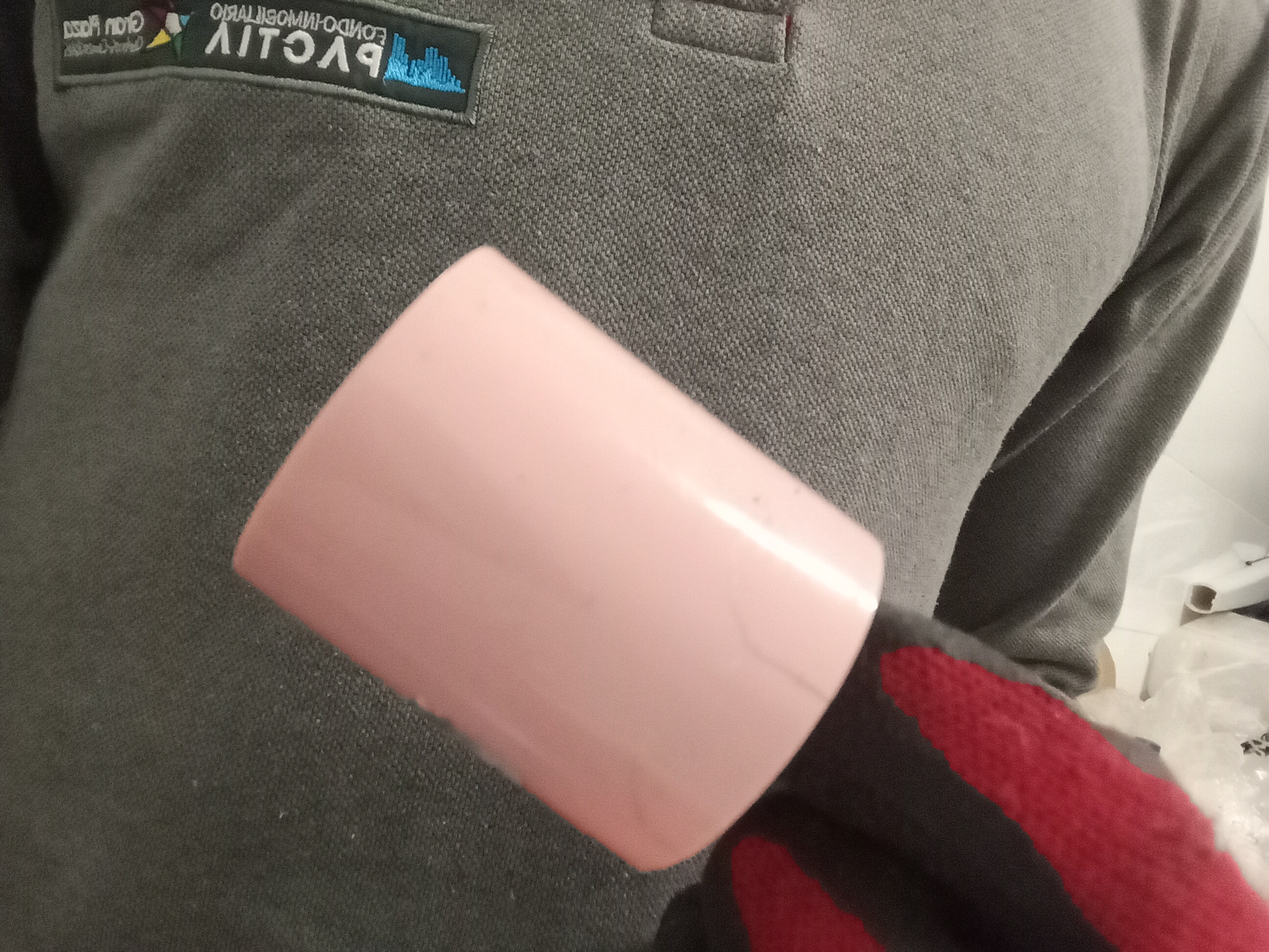Ordinario: (226, 246, 883, 879)
